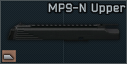MP9-N 9x19 upper receiver: (0, 0, 127, 64)
